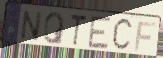C: (111, 17, 135, 53)
E: (87, 15, 113, 51)
F: (133, 21, 158, 53)
N: (19, 9, 44, 42)
Q: (42, 11, 66, 45)
T: (69, 12, 88, 48)
